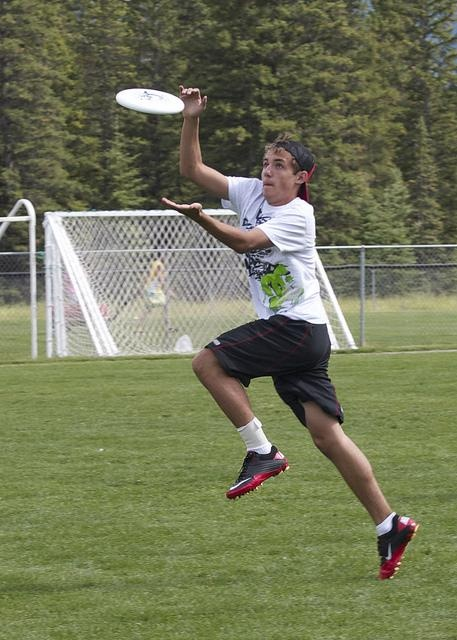person: (157, 75, 418, 581)
